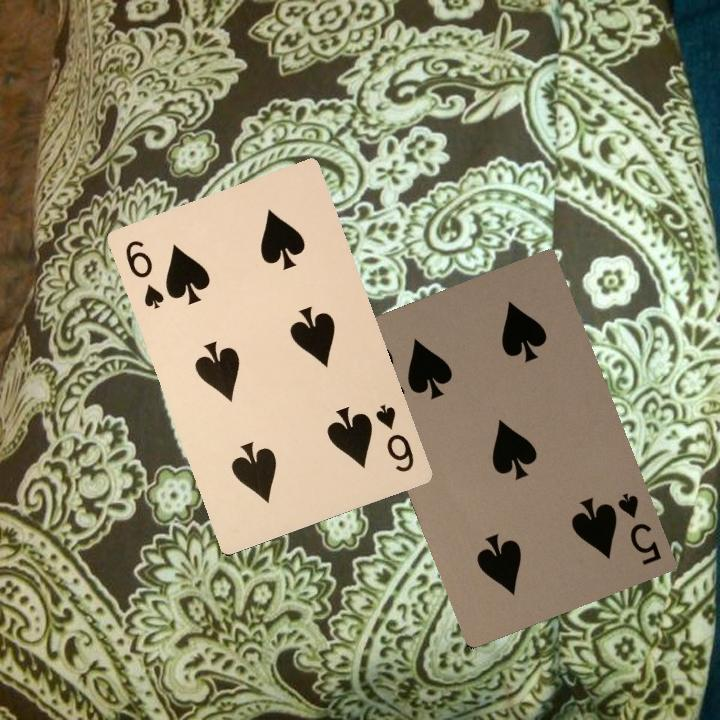5s: (613, 488, 664, 568)
6s: (121, 236, 167, 312), (371, 400, 417, 475)
